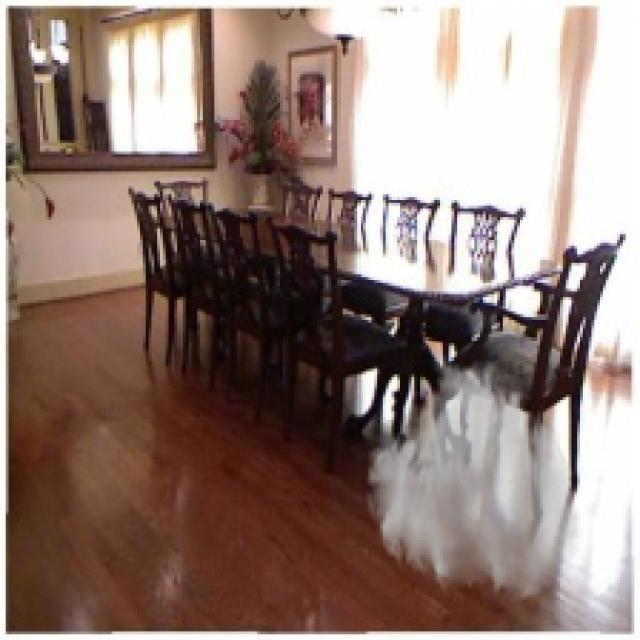smoke: (363, 348, 583, 606)
